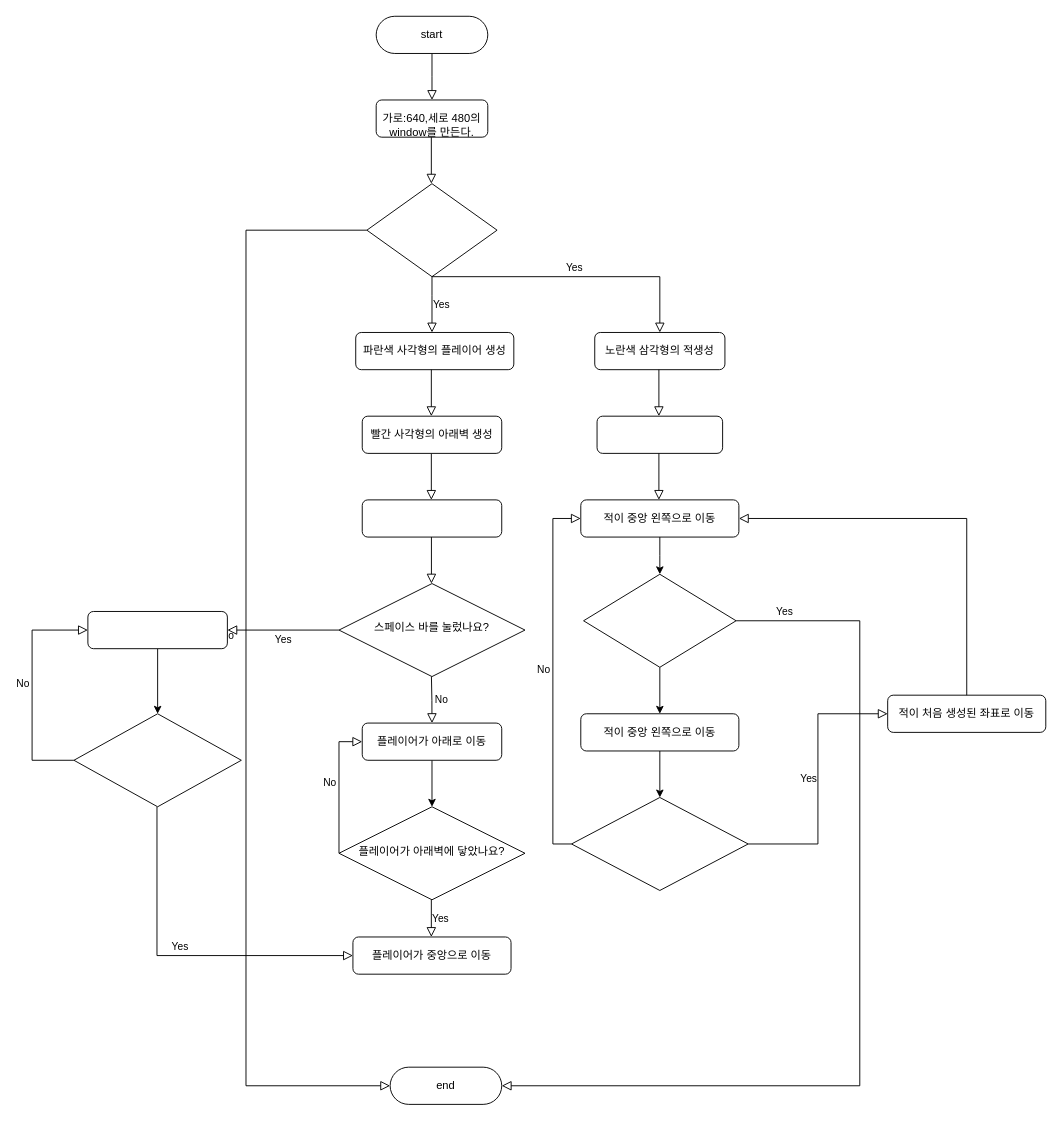
Some shapes in this 1062 by 1121 pixel diagram are drawn without their labels. The shapes that lost their labels are listed below. From the top down, each one's box as (x1, y1, x2, y2) in pixels, then its label:
(366, 183, 497, 277): window가 종료 안 됐나요?
(596, 415, 723, 453): 검은 사각형의 벽 생성
(361, 499, 502, 537): 빨간 사각형의 윗벽 생성
(87, 611, 227, 649): 플레이어가 위로 이동
(583, 573, 736, 667): 적이 플레이어에 닿았나요?
(73, 713, 241, 807): 플레이어가 윗벽에 닿았나요?
(571, 797, 748, 890): 적이 왼쪽 검은벽에 닿았나요?
